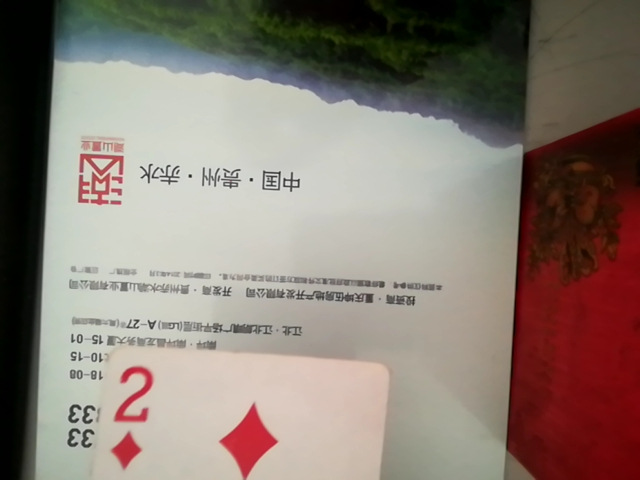fk 2: (39, 342, 408, 478)
